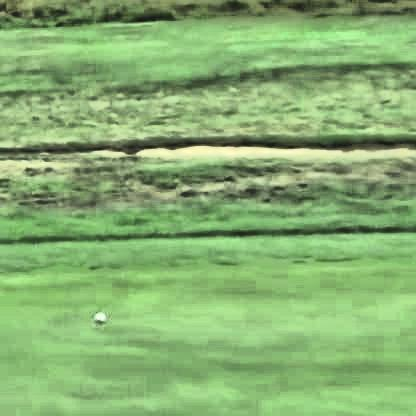golfball: (92, 311, 105, 321)
